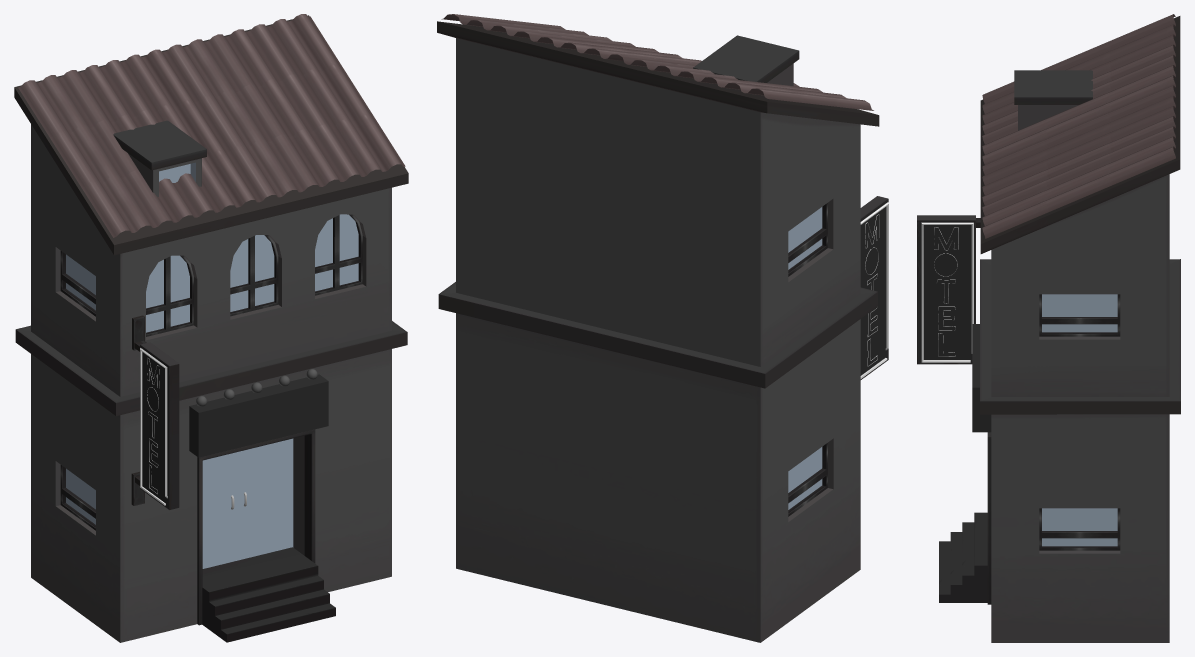
File: S1_mod_MotelBuilding_001.FBX
3 views of the same model, side by side, from view 1: azimuth 30°, elevation 25°; view 2: azimuth 150°, elevation 25°; view 3: azimuth 270°, elevation 25° (orthographic). The views are drawn at different scales.
Visible parts, largest first — view 1: S1_tex_MotelBuilding_001, S1_tex_MotelBuilding_003, S1_tex_MotelBuilding_002; view 2: S1_tex_MotelBuilding_001, S1_tex_MotelBuilding_003, S1_tex_MotelBuilding_002; view 3: S1_tex_MotelBuilding_001, S1_tex_MotelBuilding_003, S1_tex_MotelBuilding_002.
Boxes of the visible parts, bbox=[...] form: S1_tex_MotelBuilding_001: bbox=[14, 14, 408, 642]; S1_tex_MotelBuilding_003: bbox=[131, 315, 335, 642]; S1_tex_MotelBuilding_002: bbox=[60, 214, 362, 530]; S1_tex_MotelBuilding_001: bbox=[437, 14, 879, 642]; S1_tex_MotelBuilding_003: bbox=[860, 196, 888, 379]; S1_tex_MotelBuilding_002: bbox=[788, 203, 827, 516]; S1_tex_MotelBuilding_001: bbox=[980, 14, 1180, 642]; S1_tex_MotelBuilding_003: bbox=[917, 215, 991, 604]; S1_tex_MotelBuilding_002: bbox=[1039, 294, 1120, 550].
Size of the model in its own units: 525 by 845 by 407.
